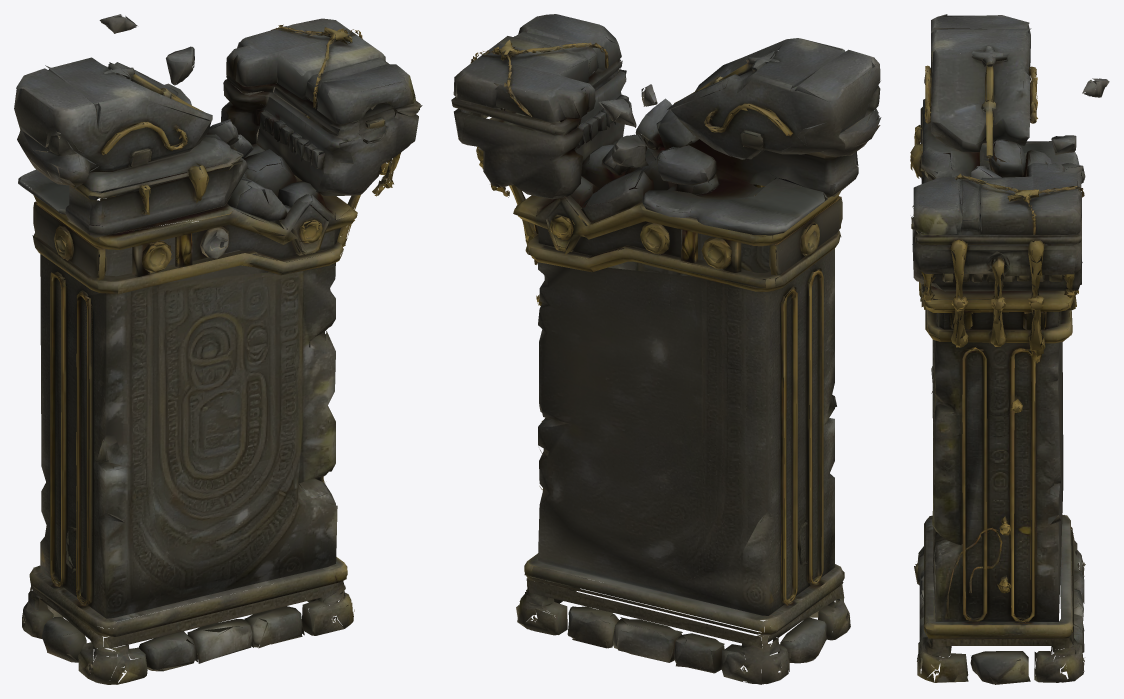
File: ch3_broken_pylon_a_LOD1.glb
3 renders of one model, left to right at view 1: azimuth 30°, elevation 25°; view 2: azimuth 150°, elevation 25°; view 3: azimuth 270°, elevation 25°, orthographic. The views are drawn at different scales.
Parts seen in each view (by area): view 1: tripo_node_d6c99cd5-9faa-415a-9e3d-cf958fd86ac3; view 2: tripo_node_d6c99cd5-9faa-415a-9e3d-cf958fd86ac3; view 3: tripo_node_d6c99cd5-9faa-415a-9e3d-cf958fd86ac3.
Boxes of the visible parts, <box> form: tripo_node_d6c99cd5-9faa-415a-9e3d-cf958fd86ac3: <box>14,14,422,684</box>; tripo_node_d6c99cd5-9faa-415a-9e3d-cf958fd86ac3: <box>451,14,881,684</box>; tripo_node_d6c99cd5-9faa-415a-9e3d-cf958fd86ac3: <box>910,14,1109,684</box>.
Bounding box in the file's own units: 0.663 × 1 × 0.3358.
1 material, 1 textured.
